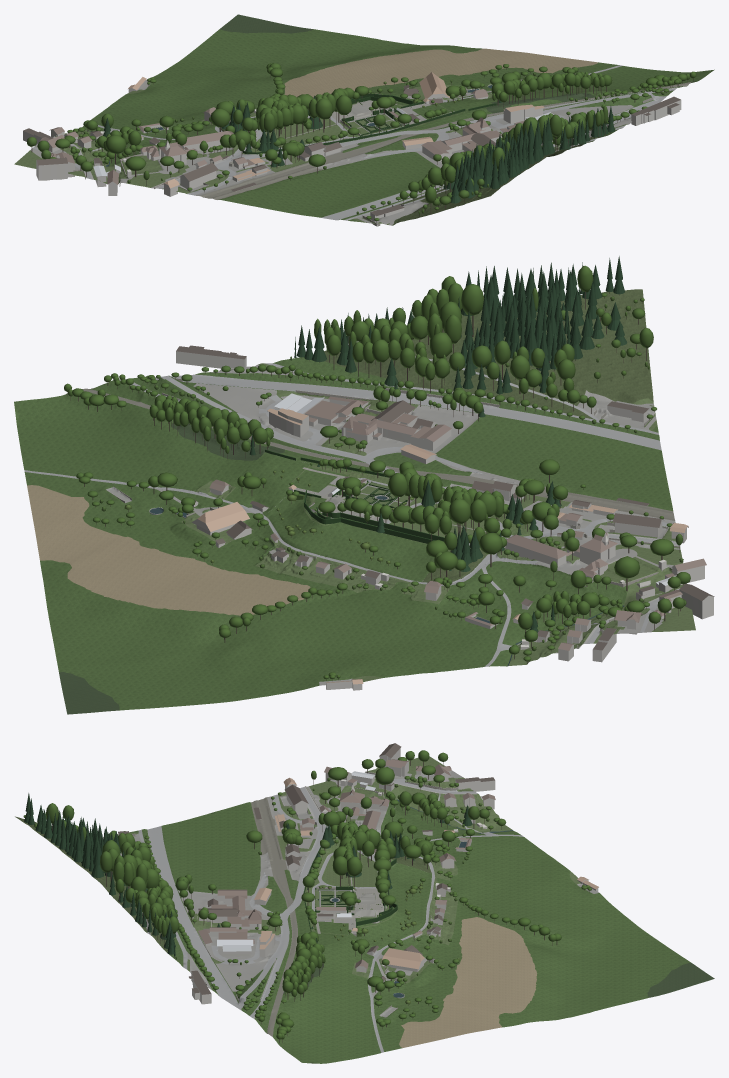
3 views of the same model, one above another, from view 1: azimuth 30°, elevation 25°; view 2: azimuth 150°, elevation 25°; view 3: azimuth 270°, elevation 25° (orthographic). The views are drawn at different scales.
Visible parts, largest first — view 1: lohn-ctx-terrain-meadow, lohn-ctx-terrain-field-soil, lohn-ctx-terrain-lawn, lohn-ctx-terrain-asphalt, lohn-ctx-terrain-gravel, lohn-ctx-terrain-ballast, lohn-ctx-terrain-field-crop, lohn-ctx-terrain-forest-floor, lohn-ctx-terrain-cobbles, lohn-ctx-bldg-egid-1412560-wall, lohn-ctx-bldg-egid-1411796-wall, lohn-ctx-hedge-1 (+5 smaller); view 2: lohn-ctx-terrain-meadow, lohn-ctx-terrain-field-soil, lohn-ctx-terrain-forest-floor, lohn-ctx-terrain-lawn, lohn-ctx-terrain-asphalt, lohn-ctx-terrain-gravel, lohn-ctx-terrain-field-crop, lohn-ctx-terrain-ballast, lohn-ctx-bldg-egid-1411722-roof, lohn-ctx-bldg-egid-502114511-roof, lohn-ctx-bldg-egid-1412560-wall, lohn-ctx-bldg-egid-1411738-roof (+2 smaller); view 3: lohn-ctx-terrain-meadow, lohn-ctx-terrain-field-soil, lohn-ctx-terrain-asphalt, lohn-ctx-terrain-lawn, lohn-ctx-terrain-gravel, lohn-ctx-terrain-ballast, lohn-ctx-terrain-field-crop, lohn-ctx-terrain-forest-floor, lohn-ctx-terrain-cobbles, lohn-ctx-bldg-egid-1411722-roof, lohn-ctx-terrain-under-building, lohn-ctx-bldg-egid-502114511-roof.
Boxes of the visible parts, left/top/right/bottom form: lohn-ctx-terrain-meadow: left=82, top=29, right=714, bottom=221; lohn-ctx-terrain-field-soil: left=284, top=48, right=597, bottom=97; lohn-ctx-terrain-lawn: left=14, top=85, right=627, bottom=225; lohn-ctx-terrain-asphalt: left=33, top=65, right=676, bottom=220; lohn-ctx-terrain-gravel: left=30, top=79, right=633, bottom=225; lohn-ctx-terrain-ballast: left=200, top=81, right=691, bottom=199; lohn-ctx-terrain-field-crop: left=220, top=14, right=597, bottom=113; lohn-ctx-terrain-forest-floor: left=221, top=124, right=609, bottom=224; lohn-ctx-terrain-cobbles: left=285, top=97, right=454, bottom=138; lohn-ctx-bldg-egid-1412560-wall: left=631, top=100, right=681, bottom=125; lohn-ctx-bldg-egid-1411796-wall: left=36, top=160, right=67, bottom=180; lohn-ctx-hedge-1: left=242, top=108, right=465, bottom=154; lohn-ctx-terrain-meadow: left=14, top=357, right=673, bottom=710; lohn-ctx-terrain-field-soil: left=27, top=485, right=310, bottom=615; lohn-ctx-terrain-forest-floor: left=324, top=289, right=653, bottom=582; lohn-ctx-terrain-lawn: left=181, top=363, right=695, bottom=681; lohn-ctx-terrain-asphalt: left=24, top=356, right=679, bottom=666; lohn-ctx-terrain-gravel: left=106, top=364, right=680, bottom=685; lohn-ctx-terrain-field-crop: left=59, top=423, right=284, bottom=714; lohn-ctx-terrain-ballast: left=82, top=388, right=675, bottom=520; lohn-ctx-bldg-egid-1411722-roof: left=197, top=502, right=249, bottom=531; lohn-ctx-bldg-egid-502114511-roof: left=305, top=396, right=369, bottom=423; lohn-ctx-bldg-egid-1412560-wall: left=176, top=348, right=246, bottom=368; lohn-ctx-bldg-egid-1411738-roof: left=343, top=416, right=419, bottom=437; lohn-ctx-terrain-meadow: left=130, top=794, right=690, bottom=1063; lohn-ctx-terrain-field-soil: left=399, top=917, right=537, bottom=1047; lohn-ctx-terrain-asphalt: left=138, top=770, right=523, bottom=1052; lohn-ctx-terrain-lawn: left=129, top=756, right=580, bottom=983; lohn-ctx-terrain-gravel: left=103, top=771, right=598, bottom=1017; lohn-ctx-terrain-ballast: left=251, top=797, right=297, bottom=1036; lohn-ctx-terrain-field-crop: left=283, top=859, right=714, bottom=997; lohn-ctx-terrain-forest-floor: left=15, top=816, right=431, bottom=952; lohn-ctx-terrain-cobbles: left=316, top=877, right=386, bottom=933; lohn-ctx-bldg-egid-1411722-roof: left=381, top=948, right=424, bottom=969; lohn-ctx-terrain-under-building: left=199, top=782, right=476, bottom=972; lohn-ctx-bldg-egid-502114511-roof: left=198, top=927, right=254, bottom=944.
Bounding box in the file's own units: 696 × 153 × 696.
Materials: 28 (13 with a texture image).
